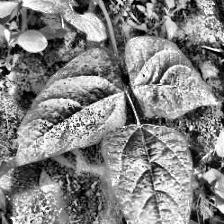ALS: (4, 45, 118, 175), (101, 120, 190, 224), (127, 36, 223, 118), (14, 0, 110, 40)
